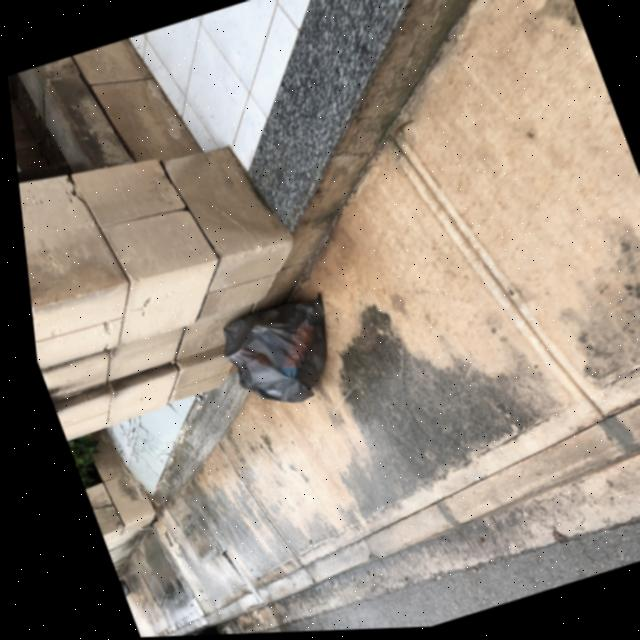Mixed Waste -Black Bag-: (205, 294, 350, 422)
